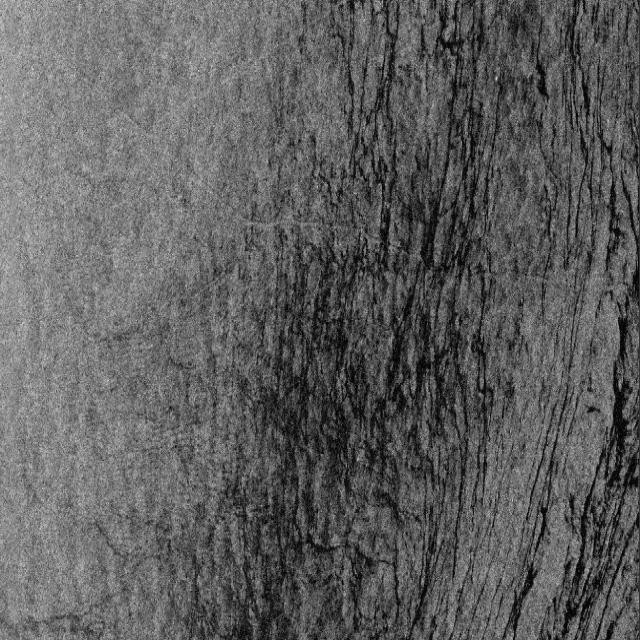look-alike: (186, 205, 468, 636), (505, 185, 637, 634), (302, 0, 515, 192)
